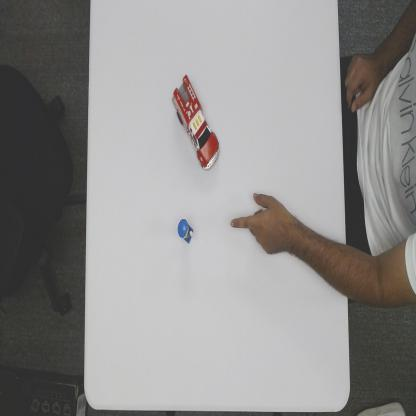Arm: (290, 216, 346, 298)
Firetruck: (171, 74, 220, 173)
Hand: (229, 191, 294, 256)
